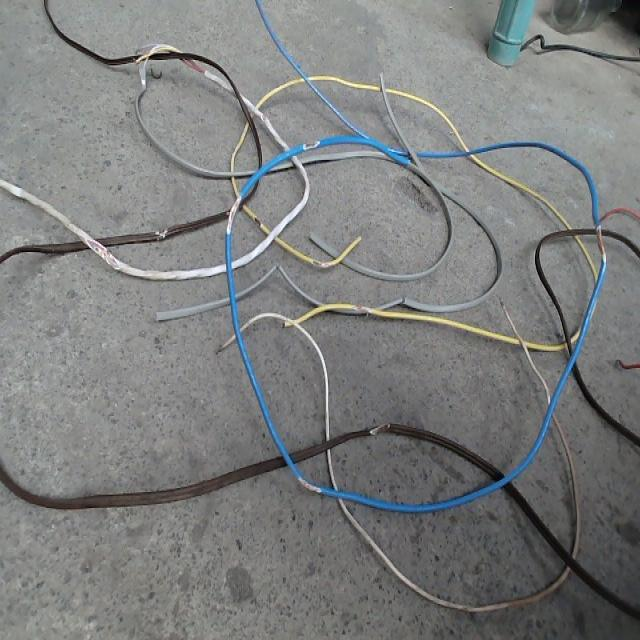-: (84, 236, 119, 269), (224, 193, 241, 236), (296, 474, 321, 494), (595, 223, 606, 260), (368, 423, 391, 436), (352, 301, 372, 315), (309, 256, 330, 269), (301, 139, 319, 149), (252, 214, 261, 227)
